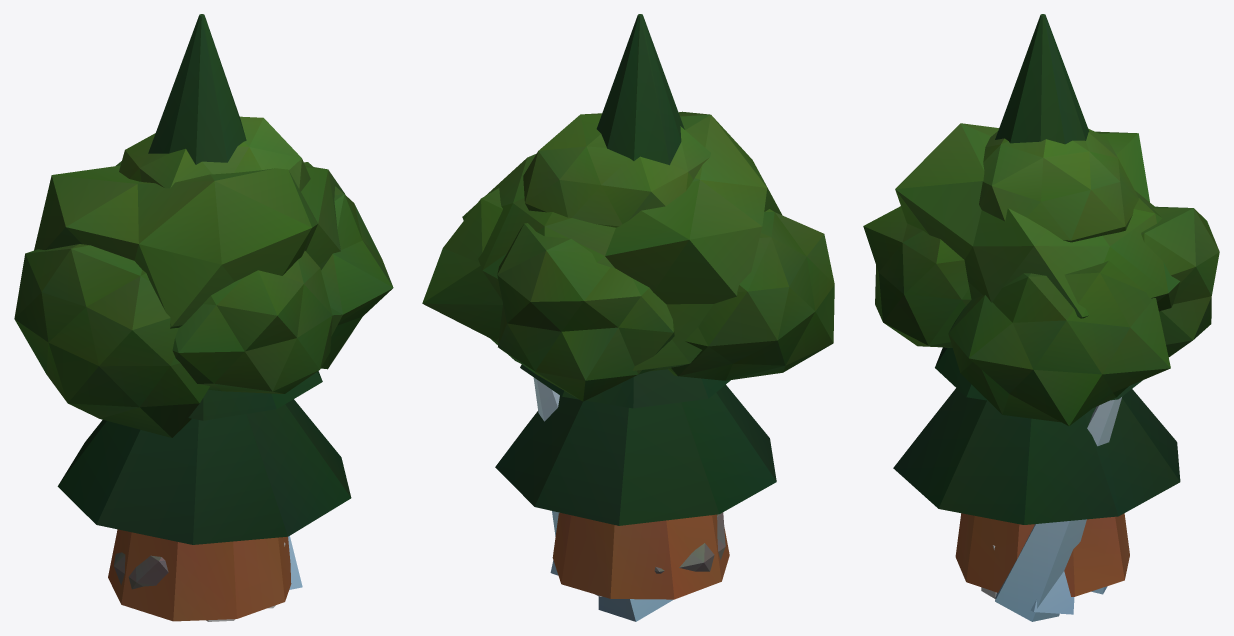
Rendered from PG_Props.fbx.
3 views of the same model, side by side, from view 1: azimuth 30°, elevation 25°; view 2: azimuth 150°, elevation 25°; view 3: azimuth 270°, elevation 25° (orthographic). The views are drawn at different scales.
Parts seen in each view (by area): view 1: FLORA_Broadleaf, FLORA_Conifer, ROCK_Hoodoo, ROCK_Boulder; view 2: FLORA_Broadleaf, FLORA_Conifer, ROCK_Hoodoo, ICE_Spikes, ROCK_Boulder; view 3: FLORA_Broadleaf, FLORA_Conifer, ROCK_Hoodoo, ICE_Spikes.
Boxes of the visible parts, box(x1,y1,x2,y2) form: FLORA_Broadleaf: box(14, 116, 393, 437); FLORA_Conifer: box(57, 14, 351, 544); ROCK_Hoodoo: box(108, 529, 291, 621); ROCK_Boulder: box(114, 552, 168, 589); FLORA_Broadleaf: box(422, 111, 834, 401); FLORA_Conifer: box(495, 14, 776, 525); ROCK_Hoodoo: box(552, 512, 729, 599); ICE_Spikes: box(533, 377, 673, 621); ROCK_Boulder: box(654, 512, 725, 573); FLORA_Broadleaf: box(863, 123, 1219, 425); FLORA_Conifer: box(893, 14, 1180, 524); ROCK_Hoodoo: box(955, 513, 1129, 596); ICE_Spikes: box(995, 397, 1121, 621).
Size of the model in its own units: 7.47 by 11.77 by 6.61.
